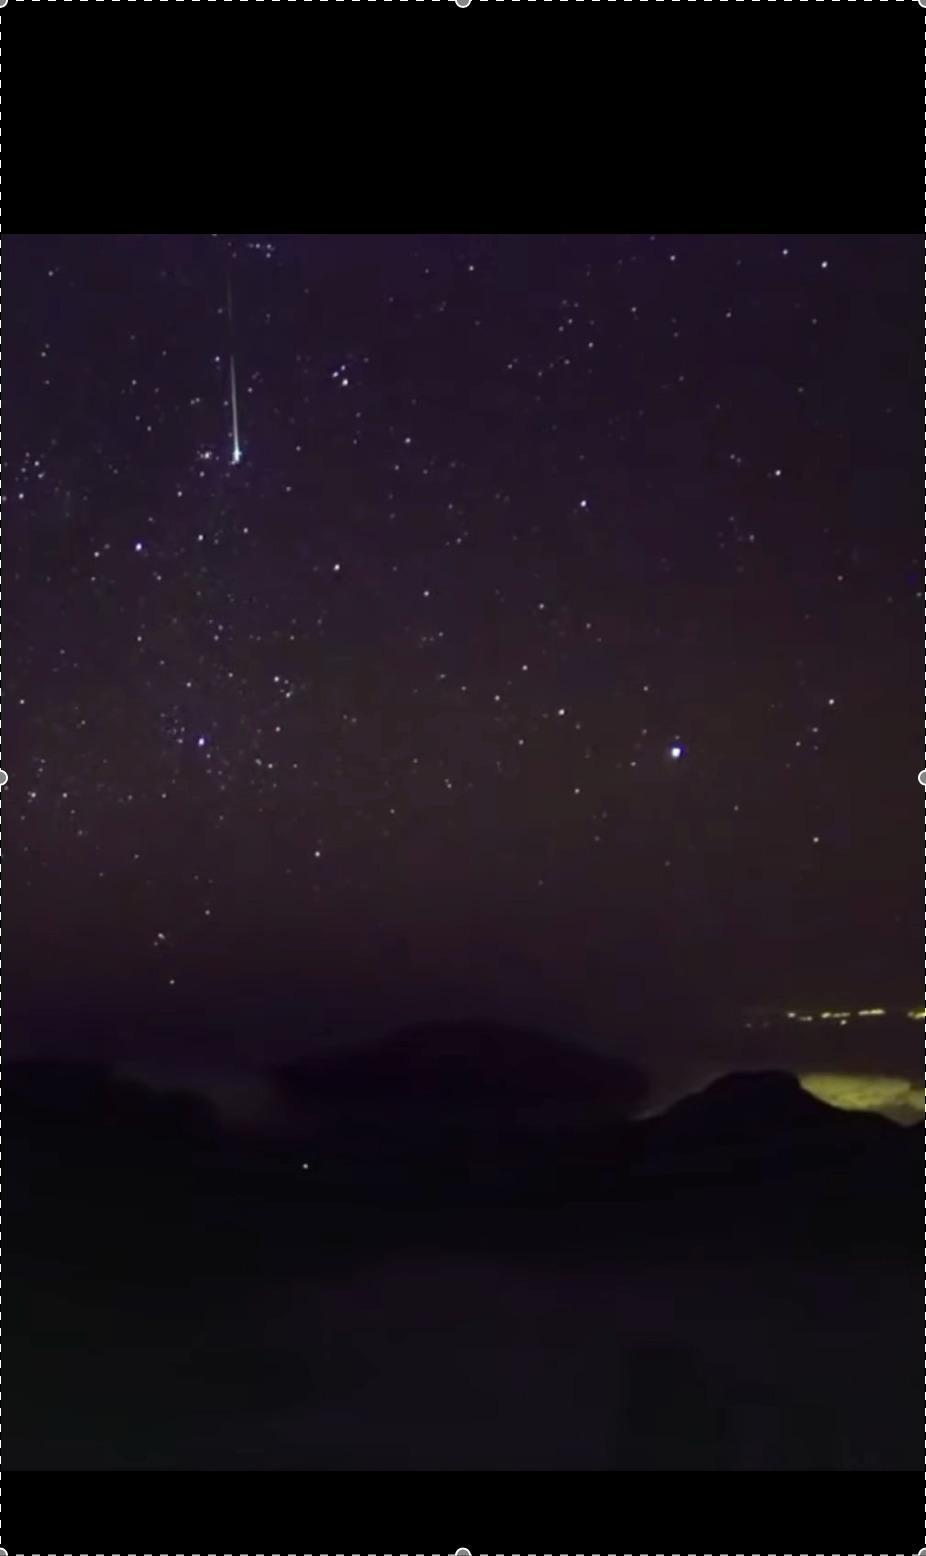meteorite: (209, 355, 260, 469)
